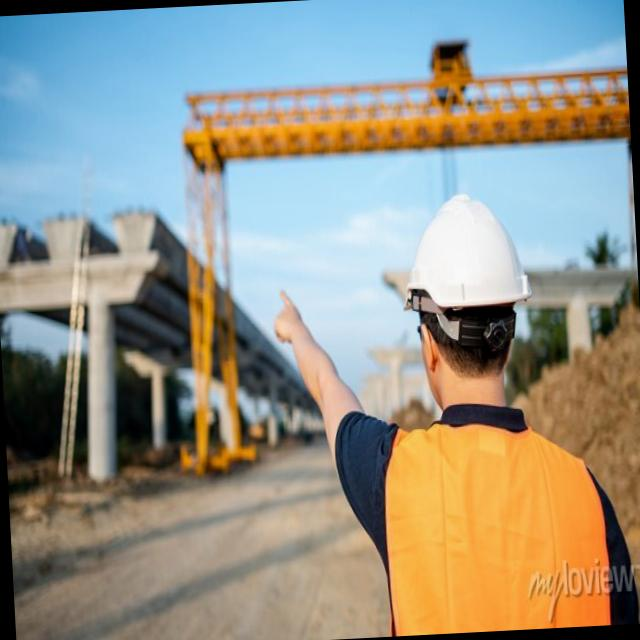helmet: (390, 184, 536, 336)
vest: (366, 396, 622, 637)
